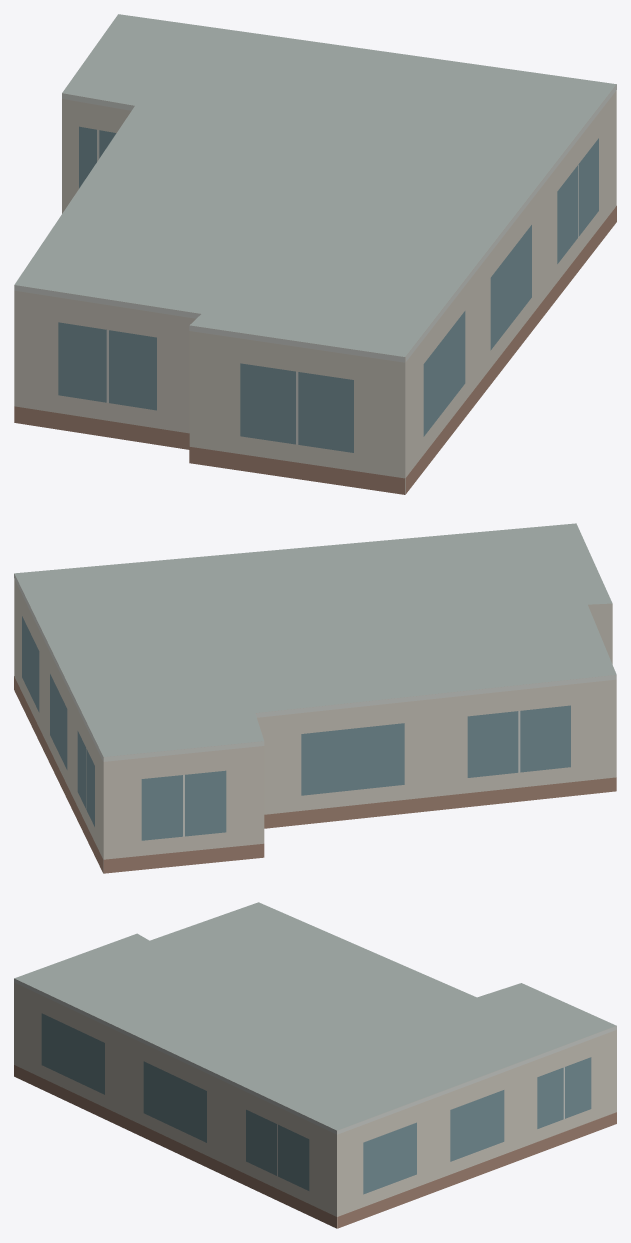
File: survey-upis-32613344.glb
The picture shows the model from 3 angles, top to bottom: view 1: azimuth 30°, elevation 25°; view 2: azimuth 150°, elevation 25°; view 3: azimuth 270°, elevation 25°; orthographic projection. The views are drawn at different scales.
Parts seen in each view (by area): view 1: survey-upis-32613344.tmp; view 2: survey-upis-32613344.tmp; view 3: survey-upis-32613344.tmp.
Boxes of the visible parts, left/top/right/bottom form: survey-upis-32613344.tmp: left=14, top=14, right=616, bottom=494; survey-upis-32613344.tmp: left=14, top=523, right=616, bottom=873; survey-upis-32613344.tmp: left=14, top=902, right=616, bottom=1228.
Bounding box in the file's own units: 15.25 × 3.05 × 17.
